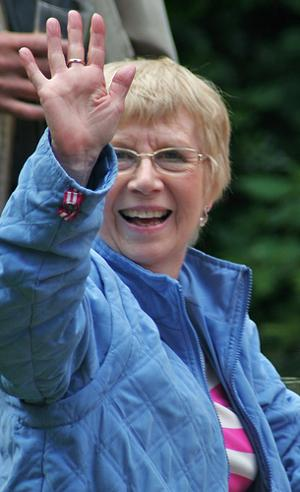person: (1, 9, 300, 492)
